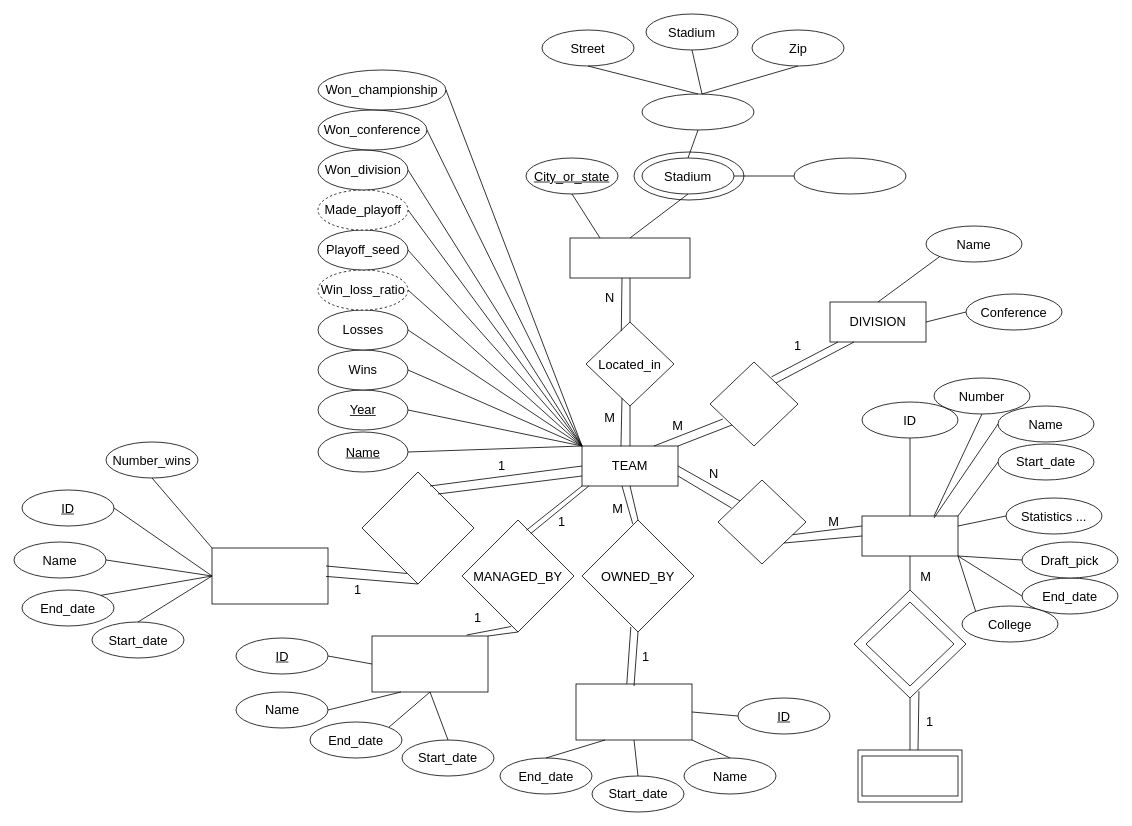
This 1132x826 diagram has some shape labels left out. Each missing label, with the centre of its shape:
Address: (x=697, y=111)
Avg_attendance: (x=849, y=175)
AWARD: (x=909, y=775)
COACH: (x=269, y=575)
COACHED_BY: (x=417, y=527)
Competes_in: (x=753, y=403)
HOME_LOCATION: (x=629, y=257)
MANAGER: (x=429, y=663)
OWNER: (x=633, y=711)
PLAYER: (x=909, y=535)
Plays_for: (x=761, y=521)
Receives: (x=909, y=643)
